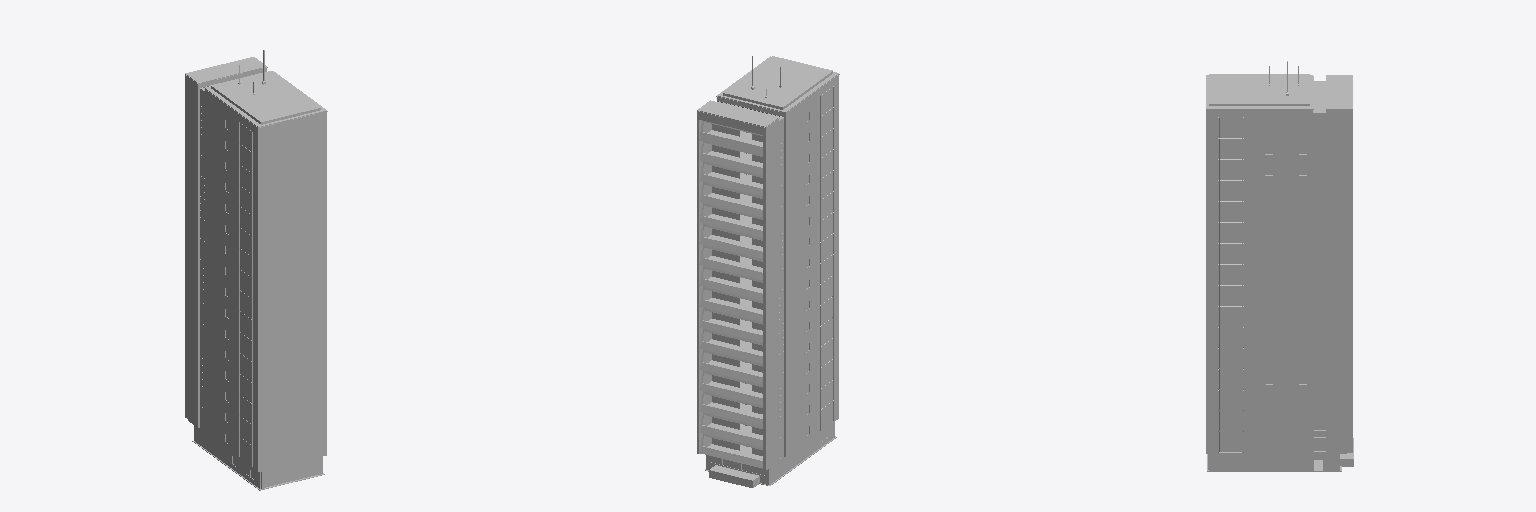
File: predio2.obj
3 views of the same model, side by side, from view 1: azimuth 30°, elevation 25°; view 2: azimuth 150°, elevation 25°; view 3: azimuth 270°, elevation 25° (orthographic).
Parts seen in each view (by area): view 1: Residential_Buildings_007_Cube.008; view 2: Residential_Buildings_007_Cube.008; view 3: Residential_Buildings_007_Cube.008.
Boxes of the visible parts, x1,y1,x2,y2 form: Residential_Buildings_007_Cube.008: [185, 50, 327, 490]; Residential_Buildings_007_Cube.008: [697, 56, 839, 487]; Residential_Buildings_007_Cube.008: [1206, 61, 1353, 471].
Bounding box in the file's own units: 7.91 × 43.21 × 14.51.